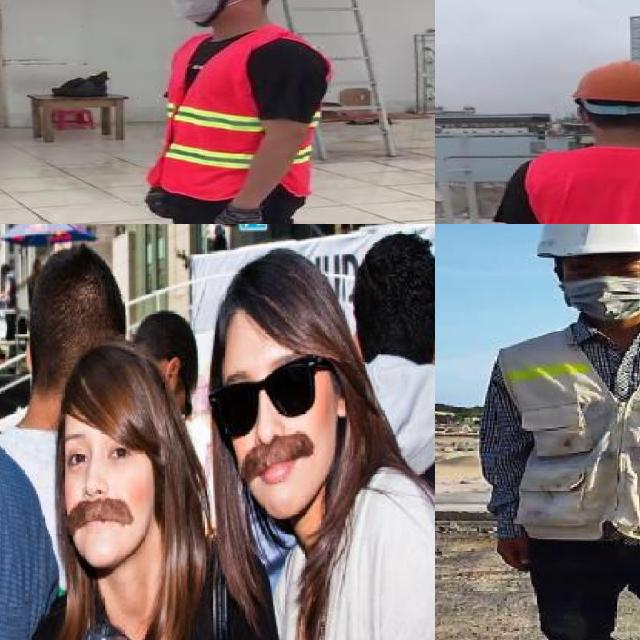face_mask: (162, 0, 233, 24)
face_nomask: (220, 352, 330, 488), (59, 431, 155, 543), (563, 278, 640, 333)
glasses: (204, 356, 326, 441)
hand_glove: (205, 204, 267, 224)
hand_noglove: (435, 545, 496, 612)
head_helmet: (542, 234, 640, 290), (565, 57, 640, 106)
head_nohelmet: (208, 260, 332, 334), (59, 351, 160, 426), (36, 243, 124, 303), (351, 240, 435, 294)
person: (211, 244, 435, 640), (437, 232, 640, 640), (34, 342, 225, 640), (126, 0, 338, 224), (497, 61, 640, 224)
vest: (151, 22, 333, 197), (525, 147, 640, 224)
